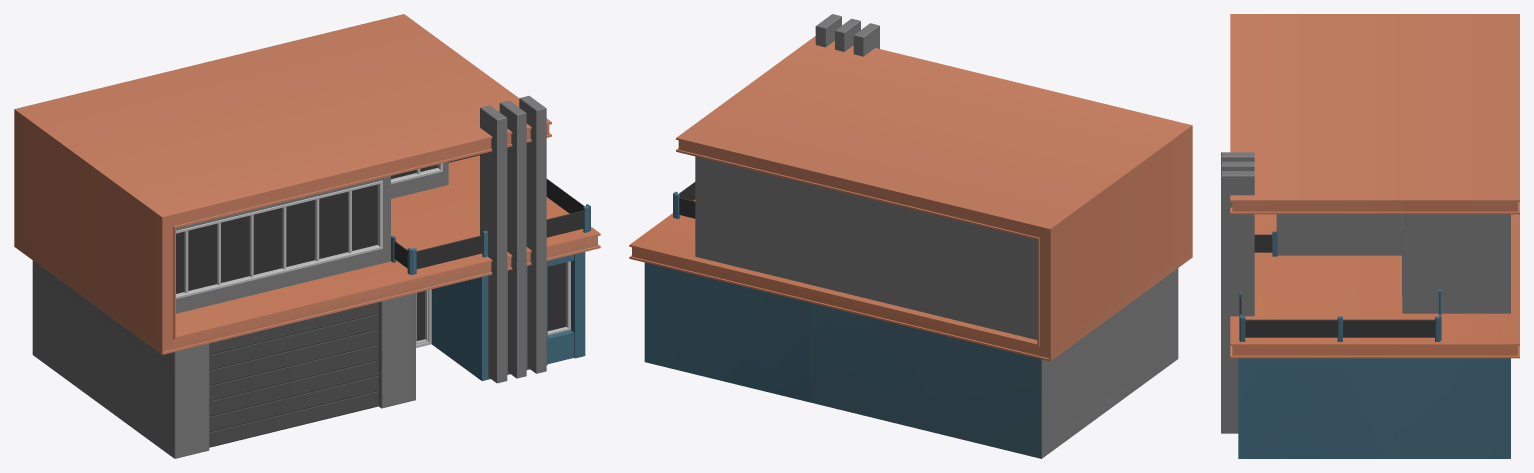
File: Casa1.obj
3 views of the same model, side by side, from view 1: azimuth 30°, elevation 25°; view 2: azimuth 150°, elevation 25°; view 3: azimuth 270°, elevation 25° (orthographic). The views are drawn at different scales.
Parts seen in each view (by area): view 1: Casa1; view 2: Casa1; view 3: Casa1.
Part boxes in pixels (bbox=[...]): Casa1: bbox=[14, 14, 600, 458]; Casa1: bbox=[629, 14, 1192, 458]; Casa1: bbox=[1221, 14, 1519, 458].
Bounding box in the file's own units: 10.18 × 5.9 × 6.13.
Materials: 1 (1 with a texture image).
